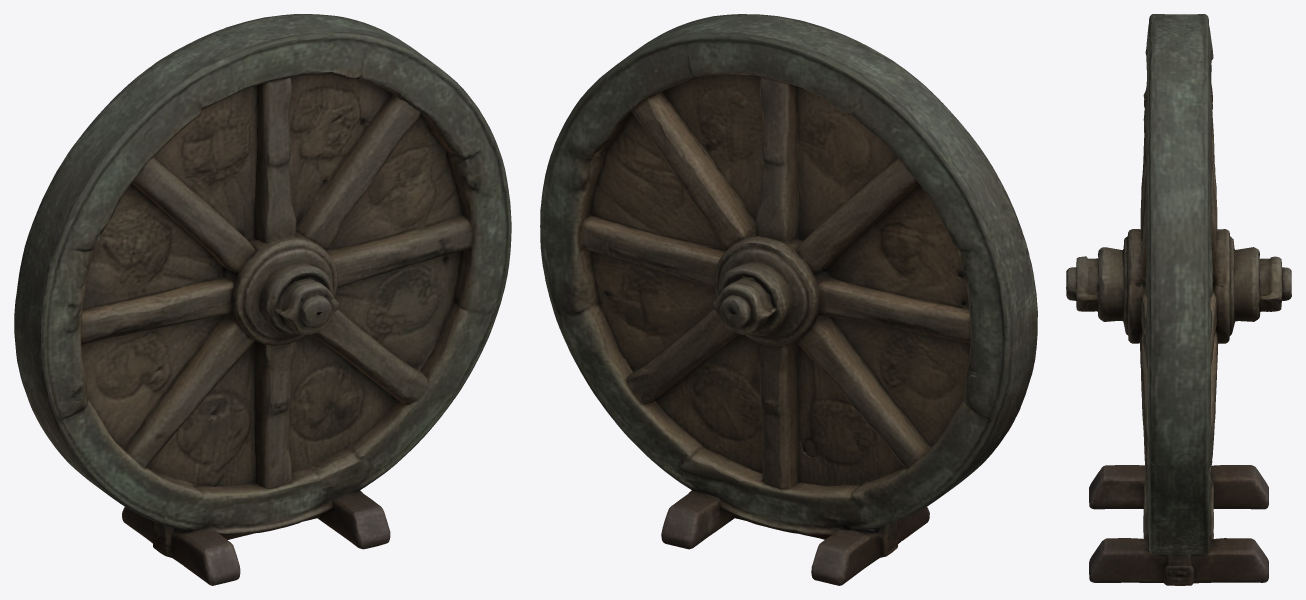
File: six-realm-wheel.glb
3 renders of one model, left to right at view 1: azimuth 30°, elevation 25°; view 2: azimuth 150°, elevation 25°; view 3: azimuth 270°, elevation 25°, orthographic.
Visible parts, largest first — view 1: geometry_0; view 2: geometry_0; view 3: geometry_0.
Part boxes in pixels (left/top/right/bottom): geometry_0: left=14, top=14, right=511, bottom=585; geometry_0: left=540, top=14, right=1037, bottom=585; geometry_0: left=1066, top=14, right=1291, bottom=585.
Bounding box in the file's own units: 0.8 × 0.812 × 0.3305.
Materials: 1 (1 with a texture image).
